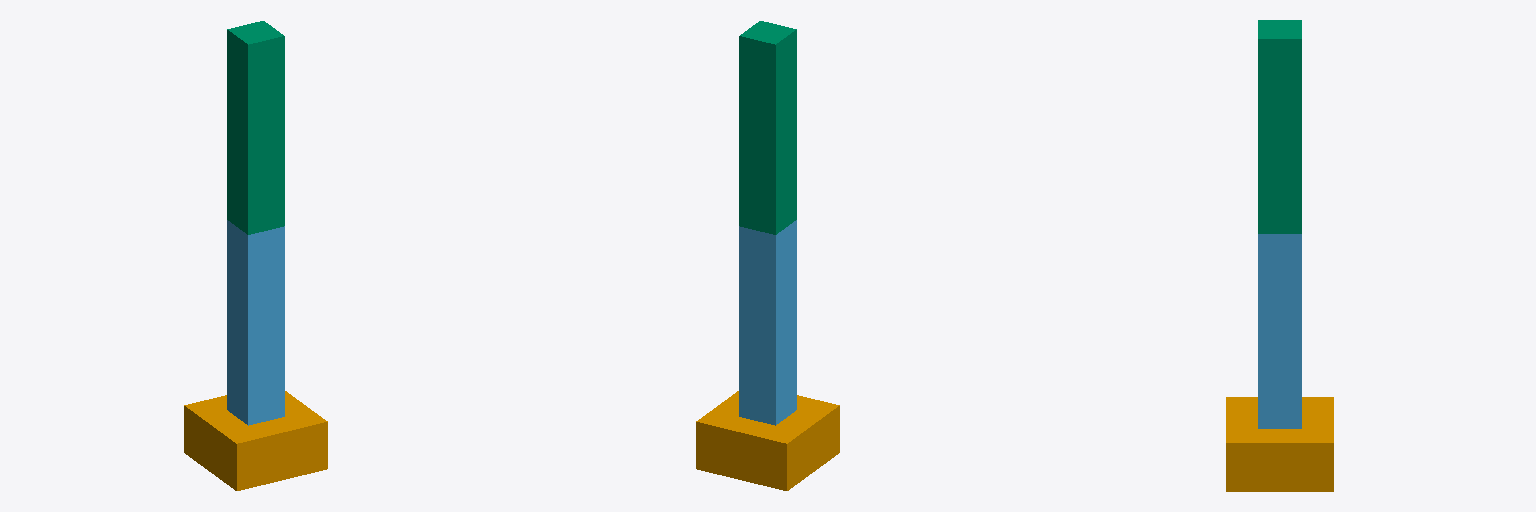
robot.urdf — arm:
<?xml version="1.0"?>
<robot name="arm">
  <link name="base_link"><inertial><origin xyz="0 0 0"/><mass value="1.0"/><inertia ixx="0.01" ixy="0" ixz="0" iyy="0.01" iyz="0" izz="0.01"/></inertial><visual><origin xyz="0 0 0.05"/><geometry><mesh filename="../meshes/base.stl"/></geometry></visual><collision><origin xyz="0 0 0.05"/><geometry><mesh filename="../meshes/base.stl"/></geometry></collision></link>
  <link name="link1"><inertial><origin xyz="0 0 0"/><mass value="1.0"/><inertia ixx="0.01" ixy="0" ixz="0" iyy="0.01" iyz="0" izz="0.01"/></inertial><visual><origin xyz="0 0 0.2"/><geometry><mesh filename="../meshes/link.stl"/></geometry></visual><collision><origin xyz="0 0 0.2"/><geometry><mesh filename="../meshes/link.stl"/></geometry></collision></link>
  <link name="link2"><inertial><origin xyz="0 0 0"/><mass value="1.0"/><inertia ixx="0.01" ixy="0" ixz="0" iyy="0.01" iyz="0" izz="0.01"/></inertial><visual><origin xyz="0 0 0.2"/><geometry><mesh filename="../meshes/link.stl"/></geometry></visual><collision><origin xyz="0 0 0.2"/><geometry><mesh filename="../meshes/link.stl"/></geometry></collision></link>
  <link name="flange"/>
  <joint name="j1" type="revolute"><parent link="base_link"/><child link="link1"/><origin xyz="0 0 0.1"/><axis xyz="0 0 1"/><limit lower="-3.0" upper="3.0" effort="100" velocity="2"/></joint>
  <joint name="j2" type="revolute"><parent link="link1"/><child link="link2"/><origin xyz="0 0 0.4"/><axis xyz="0 1 0"/><limit lower="-3.0" upper="3.0" effort="100" velocity="2"/></joint>
  <joint name="flange_joint" type="fixed"><parent link="link2"/><child link="flange"/><origin xyz="0 0 0.4"/></joint>
</robot>

--- Facts derived from the render (not from the file) ---
The picture shows the robot from 3 angles, left to right: view 1: azimuth 30°, elevation 25°; view 2: azimuth 150°, elevation 25°; view 3: azimuth 270°, elevation 25°; orthographic projection.
Model arm with 4 links and 3 joints (2 revolute, 1 fixed), rooted at base_link, posed all joints at 0.
Links seen in each view (by area): view 1: link2, link1, base_link; view 2: link2, link1, base_link; view 3: link2, base_link, link1.
Link boxes in pixels (x1,y1,x2,y2): link2: [227, 21, 284, 234]; link1: [227, 220, 284, 425]; base_link: [184, 391, 327, 490]; link2: [739, 21, 796, 234]; link1: [739, 220, 796, 425]; base_link: [696, 391, 839, 490]; link2: [1258, 20, 1301, 233]; base_link: [1226, 397, 1333, 491]; link1: [1258, 234, 1301, 428].
Bounding box of the posed robot: 0.2 × 0.2 × 0.9 m (x, y, z).
Meshes: 2 distinct files referenced, 3 mesh visuals loaded (2 binary STL).
